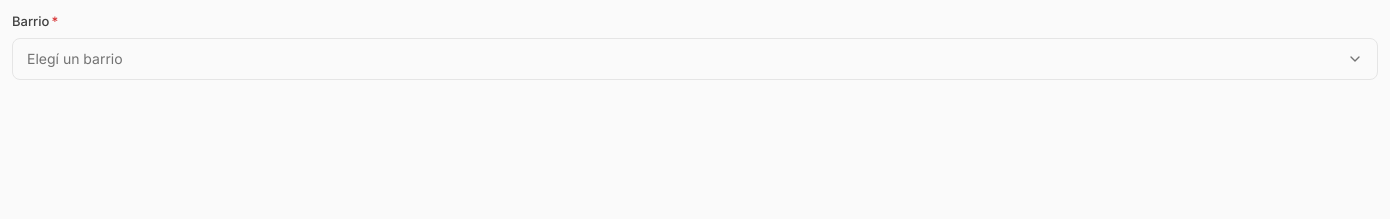
Scenario: FormField › searchable-select › muestra el placeholder y elige una opción
Expected: the text "Elegí un barrio" is shown, 27,48 -> 123,69
Click the button "Elegí un barrio".
click(75, 58)  # box 12,38 -> 1378,80
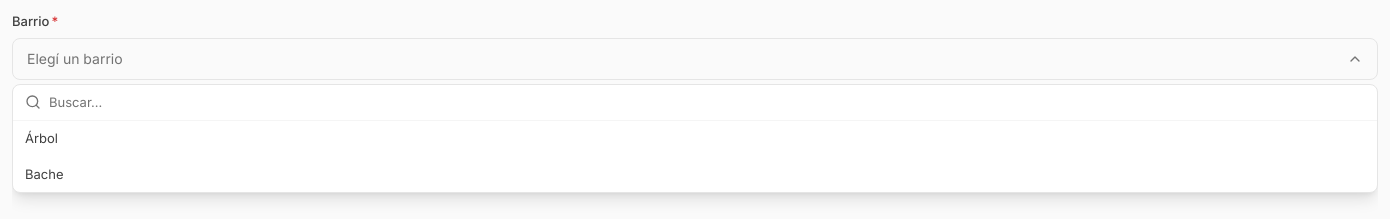
Click the button "Bache".
click(44, 174)  # box 13,156 -> 1377,192
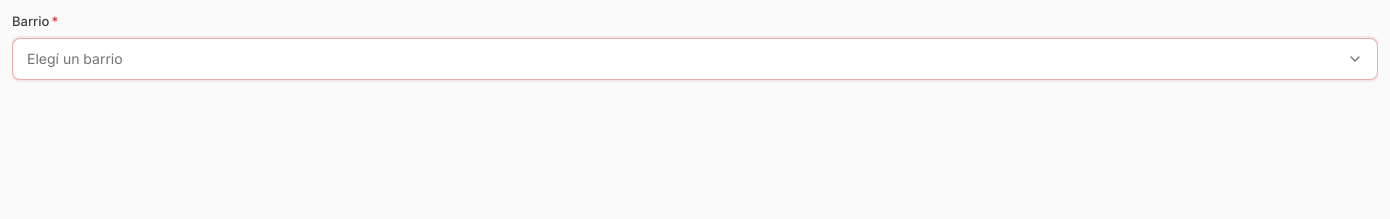
Now the field with placeholder "Buscar..." is gone
